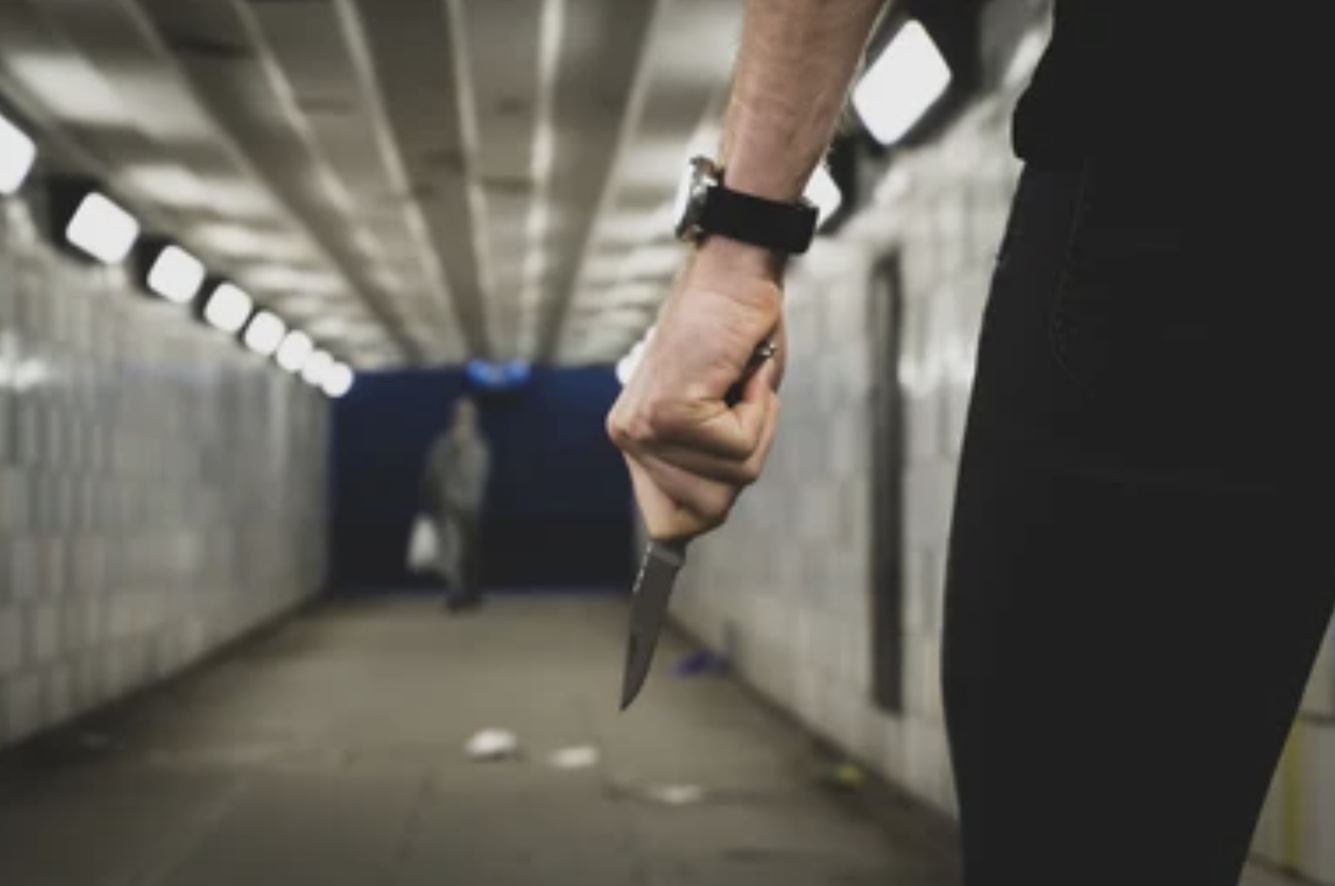knife_57.png: (575, 335, 731, 732)
